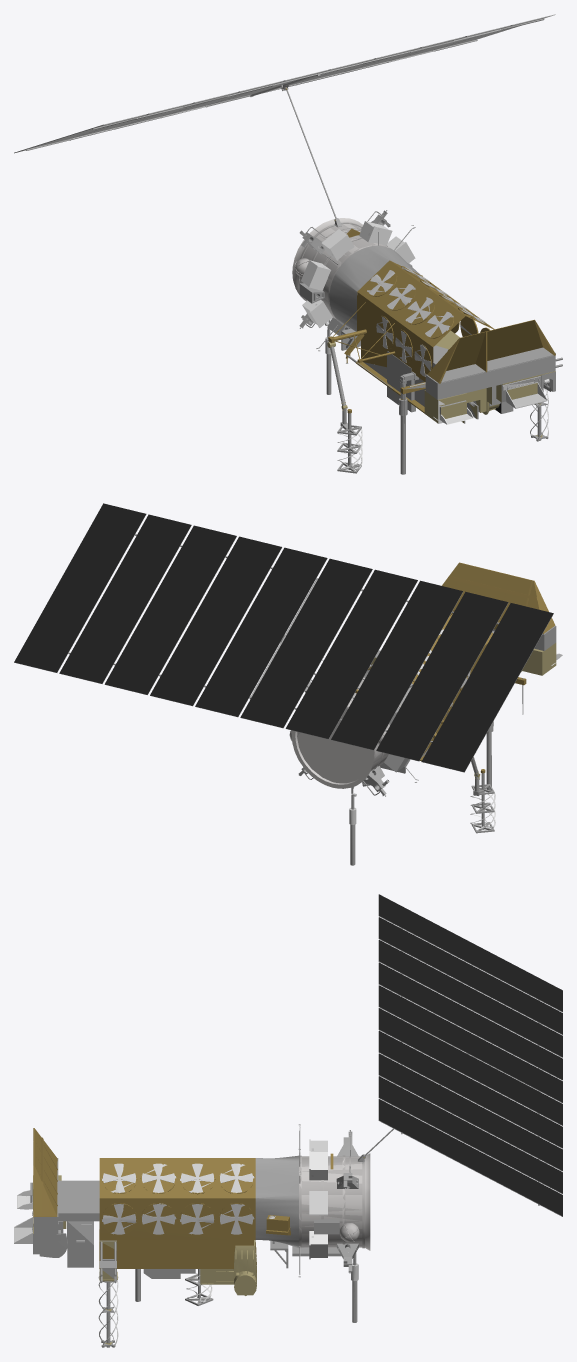
The model's file is poes.glb.
3 renders of one model, top to bottom at view 1: azimuth 30°, elevation 25°; view 2: azimuth 150°, elevation 25°; view 3: azimuth 270°, elevation 25°, orthographic. The views are drawn at different scales.
Visible parts, largest first — view 1: body, foil, solar-panel; view 2: solar-panel, body, foil; view 3: solar-panel, body, foil.
Part boxes in pixels (x1,y1,x2,y2): body: [26, 18, 562, 474]; foil: [285, 87, 555, 413]; solar-panel: [14, 14, 555, 153]; solar-panel: [14, 503, 553, 772]; body: [68, 534, 562, 865]; foil: [355, 562, 555, 773]; solar-panel: [378, 894, 562, 1216]; body: [14, 928, 539, 1347]; foil: [33, 1128, 333, 1272].
Bounding box in the file's own units: 398 × 269 × 408.
